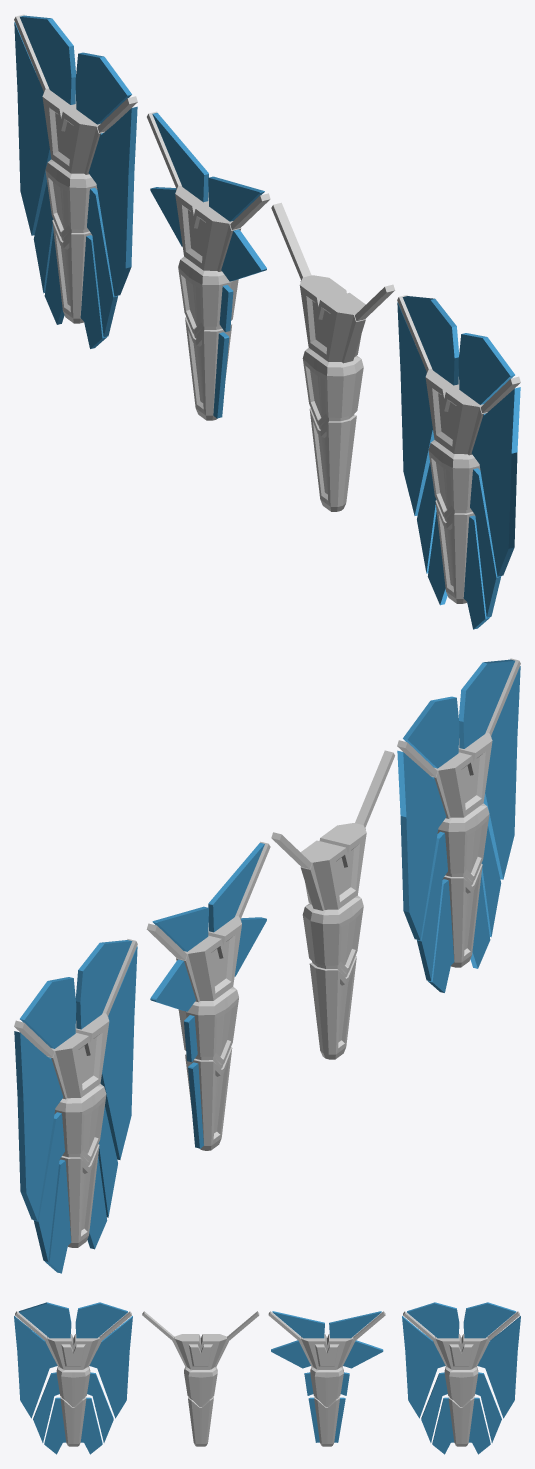
The model's file is shield.fbx.
3 renders of one model, top to bottom at view 1: azimuth 30°, elevation 25°; view 2: azimuth 150°, elevation 25°; view 3: azimuth 270°, elevation 25°, orthographic. The views are drawn at different scales.
Visible parts, largest first — view 1: Cube.002, Cube, Cube.001, Cube.003; view 2: Cube, Cube.002, Cube.001, Cube.003; view 3: Cube.002, Cube, Cube.001, Cube.003.
Boxes of the visible parts, box(x1,y1,x2,y2) form: Cube.002: box(14, 14, 137, 348); Cube: box(397, 295, 520, 629); Cube.001: box(147, 111, 270, 420); Cube.003: box(271, 202, 394, 511); Cube: box(397, 658, 520, 992); Cube.002: box(14, 939, 137, 1273); Cube.001: box(146, 841, 270, 1150); Cube.003: box(271, 750, 394, 1059); Cube.002: box(402, 1302, 520, 1454); Cube: box(14, 1302, 132, 1454); Cube.001: box(268, 1311, 385, 1446); Cube.003: box(142, 1311, 259, 1446).
Bounding box in the file's own units: 15.65 × 121 × 366.
